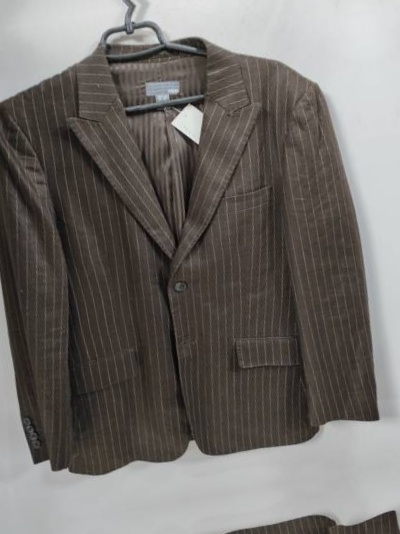Blazer: (0, 3, 400, 495), (39, 493, 400, 534), (381, 0, 400, 420), (0, 0, 325, 7)
